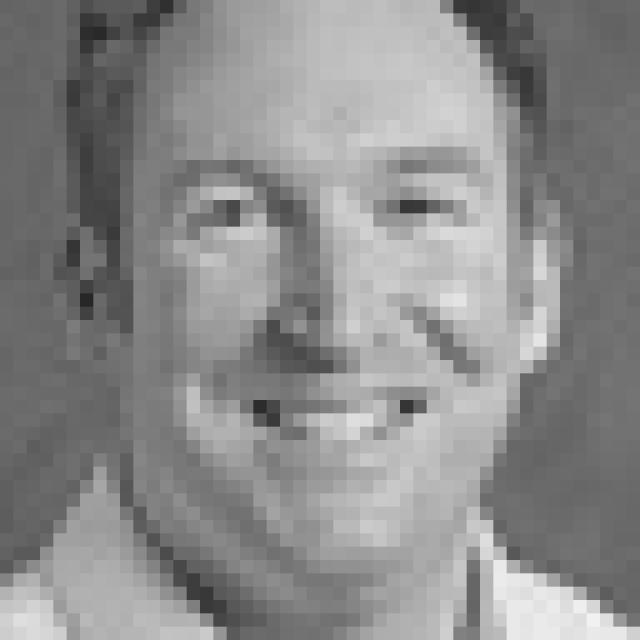happy: (150, 138, 503, 501)
